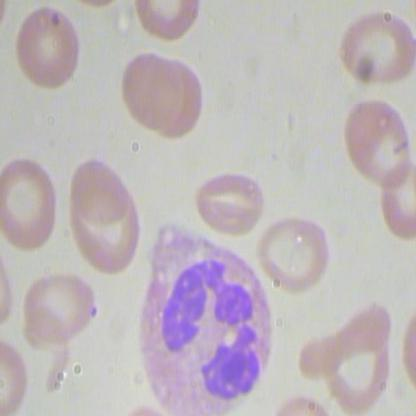RBC: (338, 93, 415, 192), (12, 2, 84, 99), (1, 153, 64, 254), (19, 264, 97, 345), (194, 158, 272, 238), (257, 216, 335, 296), (338, 8, 415, 88), (122, 49, 184, 132), (72, 149, 127, 225)
WBC: (137, 215, 274, 415)
